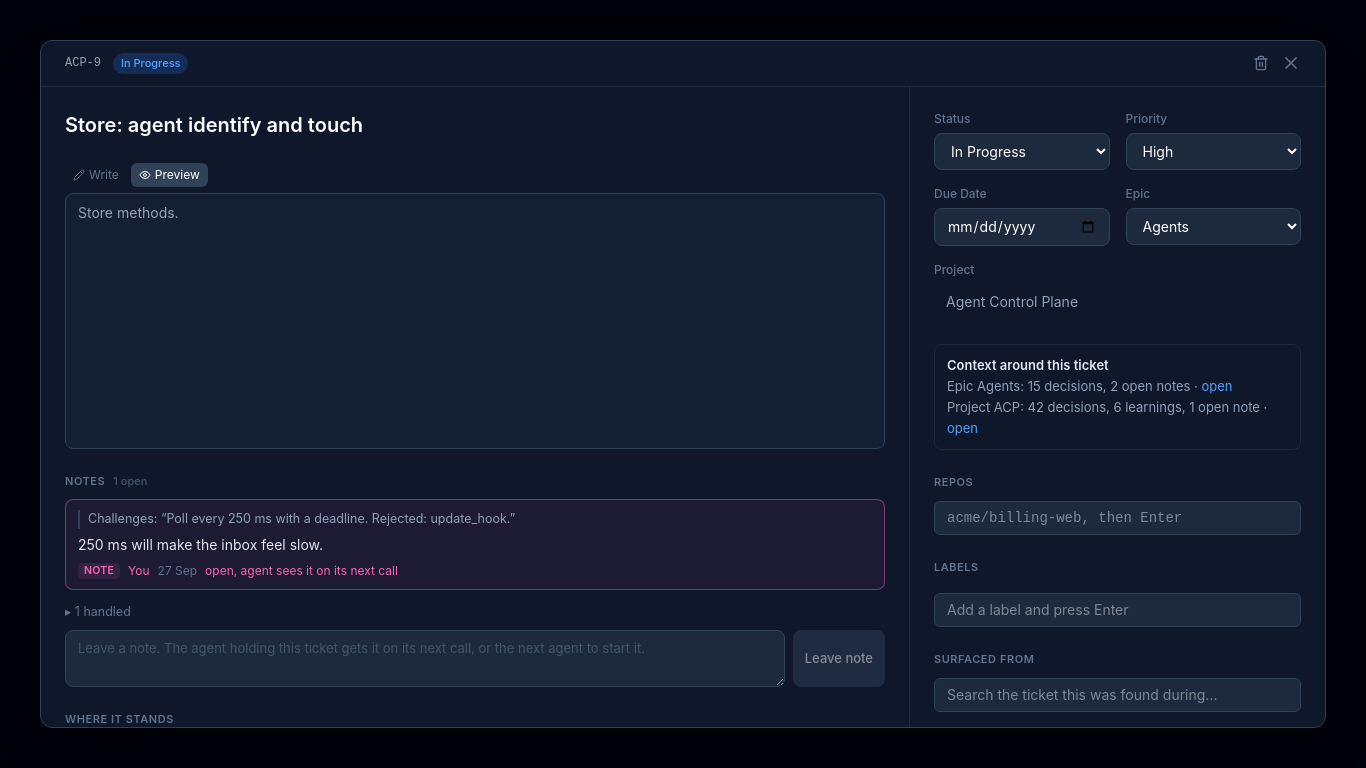
Test: the ticket page's entries › leaves a note from the box under open notes
This screenshot has width=1366, height=768.
Replace the text in the text box named "Note" with "  Aim for 100 ms.  ". click: (425, 658)
box: [65,630,785,687]
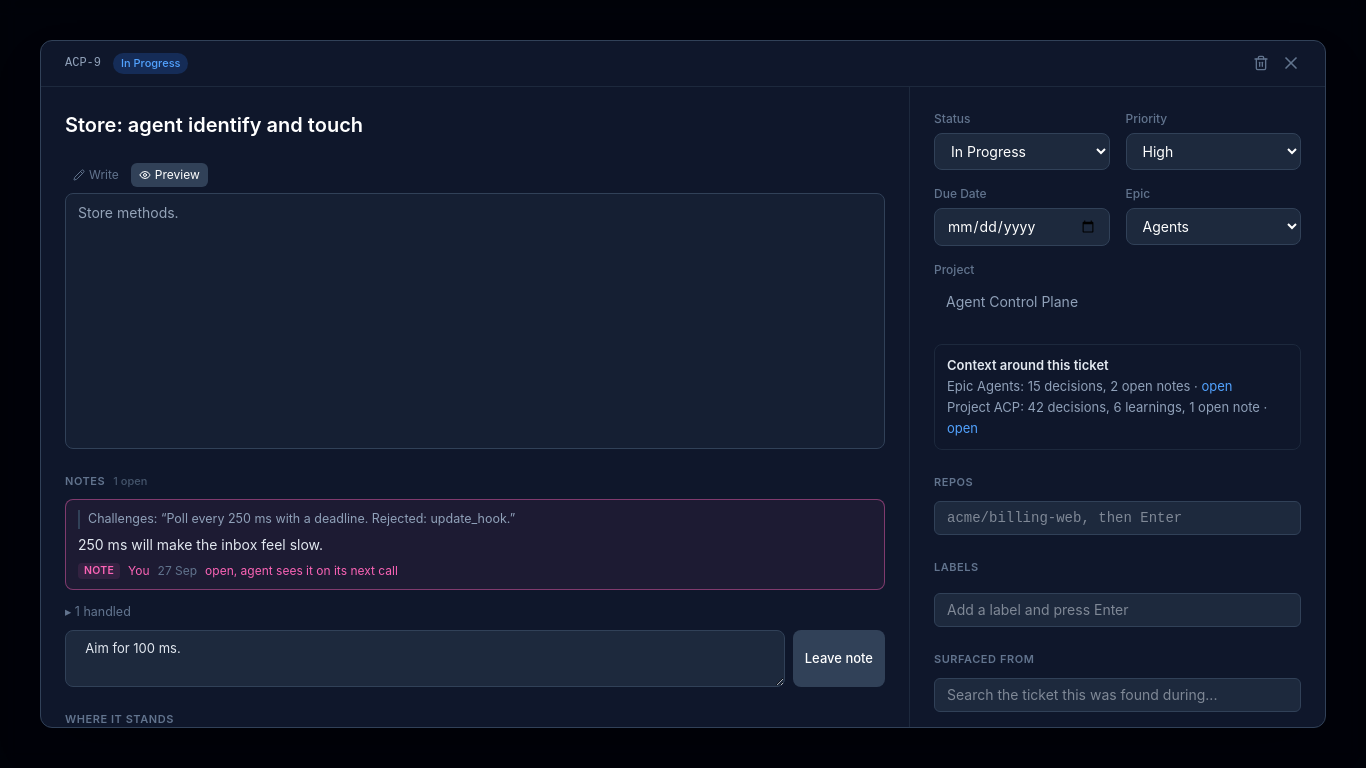
Click the button "Leave note". click: (839, 658)
box: [793,630,885,687]
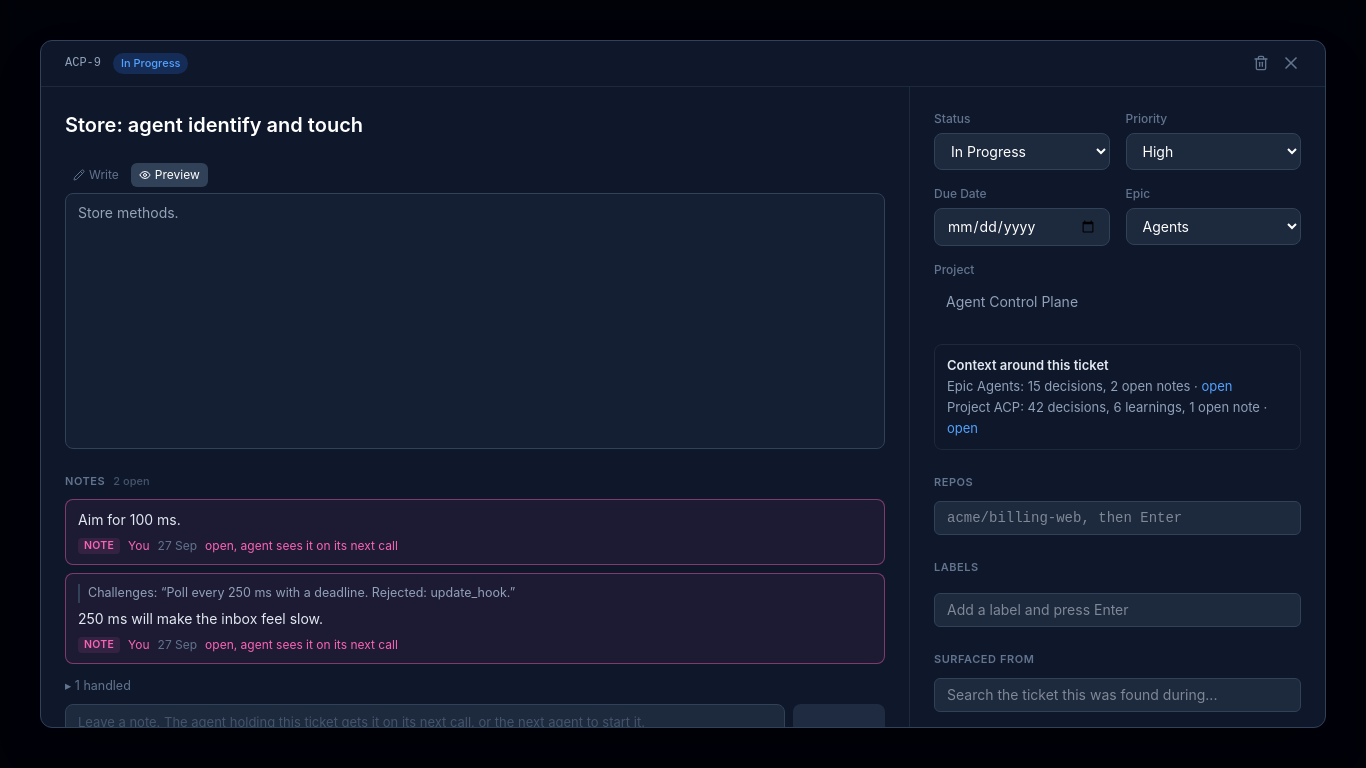
Expected: the text "Aim for 100 ms." is shown, [78,511,181,528]
